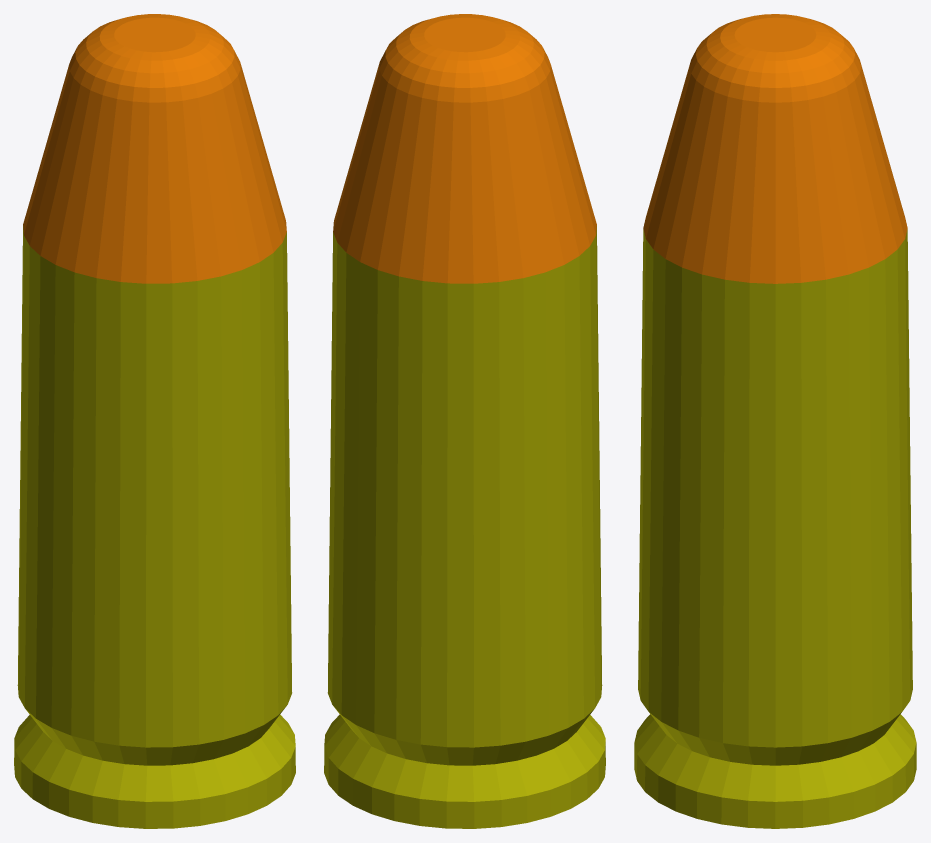
The model's file is projetilbala.fbx.
3 views of the same model, side by side, from view 1: azimuth 30°, elevation 25°; view 2: azimuth 150°, elevation 25°; view 3: azimuth 270°, elevation 25° (orthographic).
Visible parts, largest first — view 1: Cylinder; view 2: Cylinder; view 3: Cylinder.
Part boxes in pixels (x1,y1,x2,y2): Cylinder: [14, 14, 295, 828]; Cylinder: [324, 14, 605, 828]; Cylinder: [634, 14, 916, 828].
Size of the model in its own units: 155 by 446 by 155.
